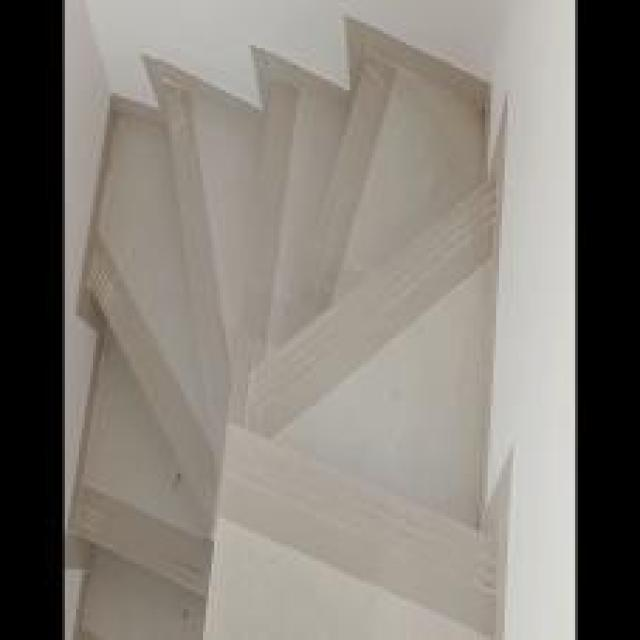downstair: (224, 91, 497, 621)
